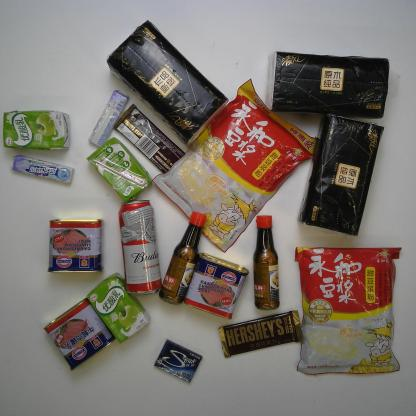Alcohol: (118, 197, 166, 297)
Candy: (87, 89, 130, 148), (8, 154, 76, 186)
Canned Food: (43, 297, 116, 372), (182, 250, 250, 321), (45, 216, 106, 275)
Chocolate: (111, 102, 187, 176), (216, 309, 306, 360)
Gum: (151, 337, 207, 385)
Instant Drink: (150, 76, 317, 254), (291, 242, 406, 378)
Milk: (85, 271, 152, 346), (85, 135, 154, 205), (2, 108, 71, 154)
Seasoner: (158, 210, 208, 306), (252, 212, 283, 312)
Tissue: (104, 18, 230, 147), (295, 109, 387, 239), (262, 50, 392, 121)
